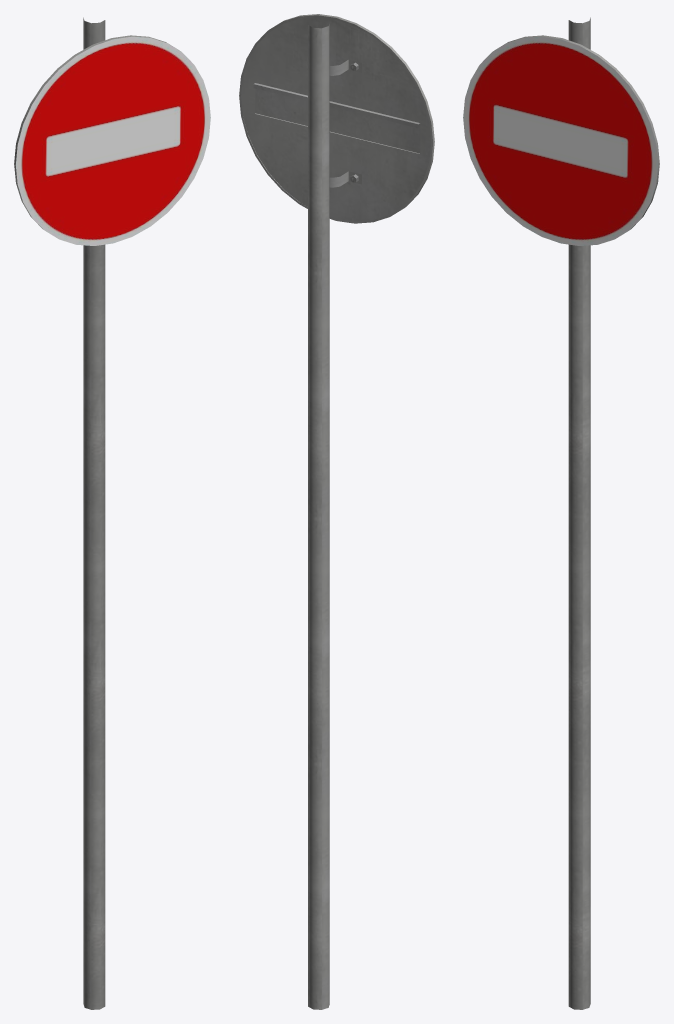
The model's file is sign_noentry.glb.
3 views of the same model, side by side, from view 1: azimuth 30°, elevation 25°; view 2: azimuth 150°, elevation 25°; view 3: azimuth 330°, elevation 25° (orthographic).
Parts seen in each view (by area): view 1: NoEntry_NoEntry_0, __Pole_MetalBack_0, NoEntry_MetalBack_0; view 2: NoEntry_MetalBack_0, __Pole_MetalBack_0; view 3: NoEntry_NoEntry_0, __Pole_MetalBack_0, NoEntry_MetalBack_0.
Part boxes in pixels (bbox=[...]): NoEntry_NoEntry_0: bbox=[15, 36, 210, 245]; __Pole_MetalBack_0: bbox=[83, 17, 105, 1009]; NoEntry_MetalBack_0: bbox=[14, 35, 179, 229]; NoEntry_MetalBack_0: bbox=[239, 14, 434, 223]; __Pole_MetalBack_0: bbox=[308, 23, 329, 1009]; NoEntry_NoEntry_0: bbox=[463, 36, 658, 245]; __Pole_MetalBack_0: bbox=[568, 17, 590, 1009]; NoEntry_MetalBack_0: bbox=[494, 35, 659, 229].
Size of the model in its own units: 0.6 by 2.9 by 0.1311.
Materials: 2 (2 with a texture image).
